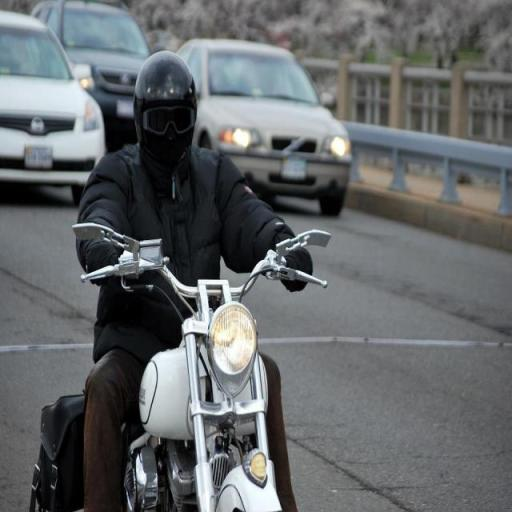Helmet: (134, 51, 196, 166)
Motor: (73, 223, 330, 511)
